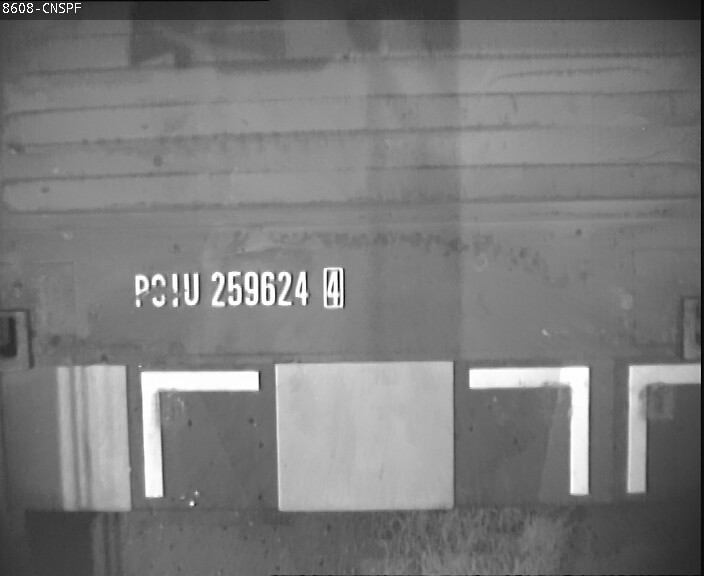groundmarker_1: (467, 363, 703, 492)
